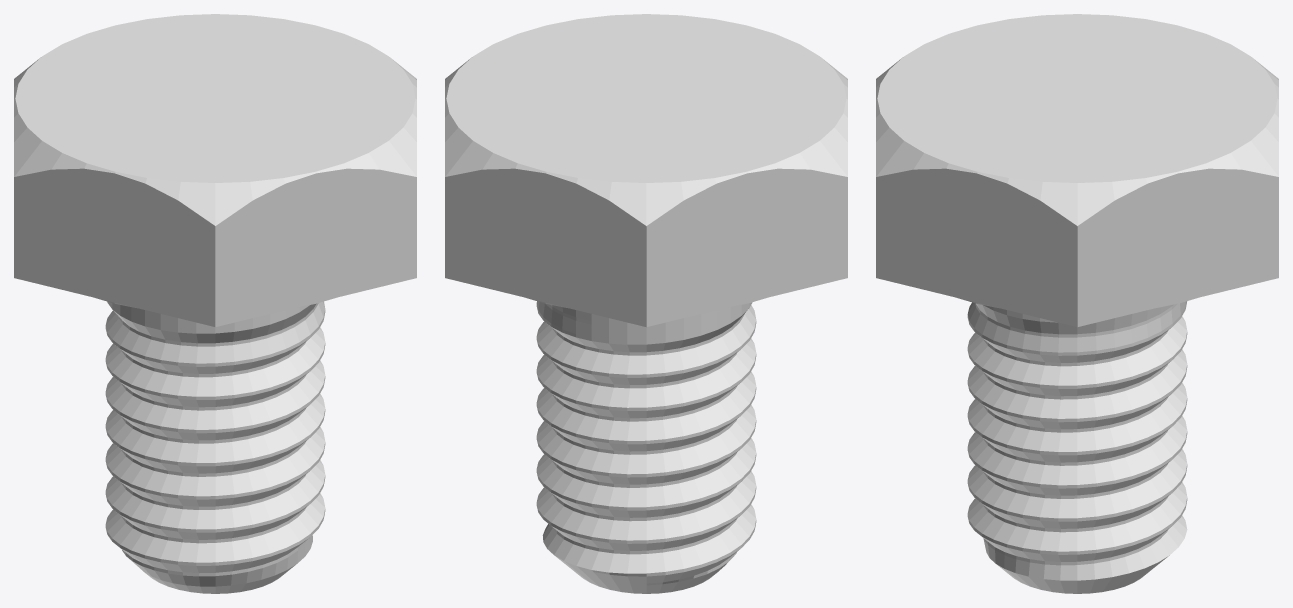
3 views of the same model, side by side, from view 1: azimuth 30°, elevation 25°; view 2: azimuth 150°, elevation 25°; view 3: azimuth 270°, elevation 25° (orthographic).
Parts seen in each view (by area): view 1: M3x6; view 2: M3x6; view 3: M3x6.
Part boxes in pixels (<box>): M3x6: <box>14,14,416,593</box>; M3x6: <box>445,14,847,593</box>; M3x6: <box>876,14,1278,593</box>.
Bounding box in the file's own units: 635 × 700 × 550.
Materials: 1 (1 with a texture image).
